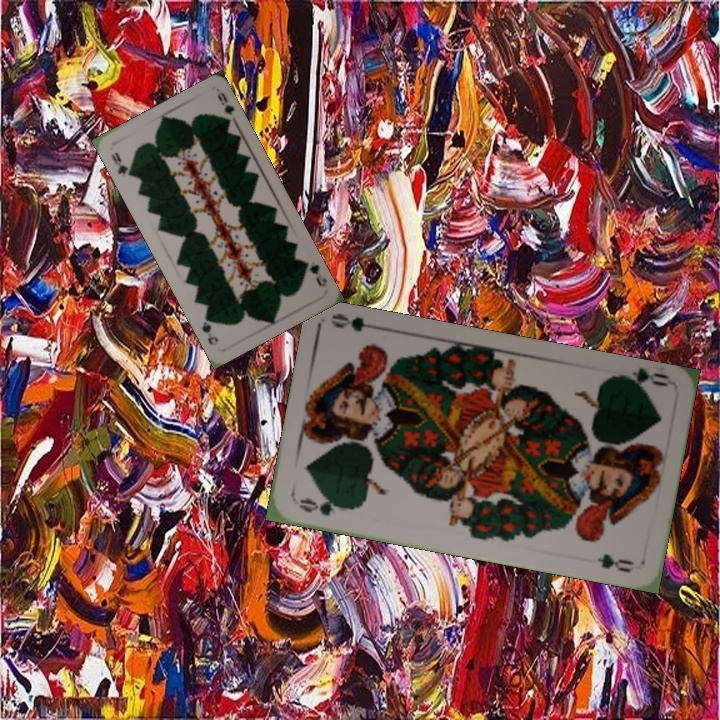G9: (298, 257, 330, 289), (107, 148, 136, 180)
GO: (612, 365, 672, 394), (295, 494, 353, 518)
